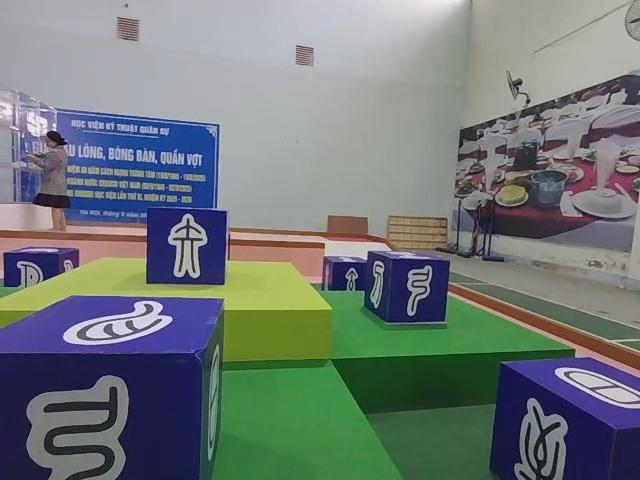R2 Fake Blue: (2, 294, 225, 480), (489, 358, 639, 480), (146, 206, 229, 287)
R2 Real Blue: (365, 250, 450, 326), (2, 247, 80, 289), (322, 256, 369, 293)
